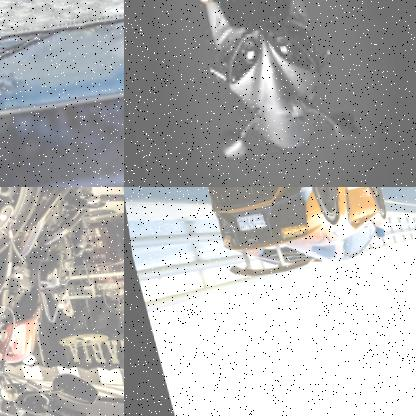bike: (133, 0, 362, 168), (0, 187, 124, 416)
car: (192, 187, 395, 280)
